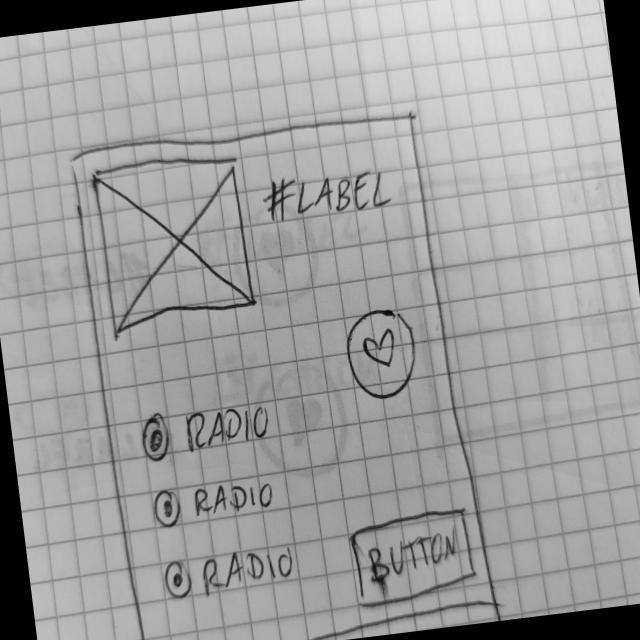button: (344, 506, 481, 613)
container: (66, 102, 504, 640)
icon-button: (340, 303, 425, 407)
image: (89, 146, 259, 337)
label: (259, 159, 397, 230)
radio: (137, 397, 276, 466), (162, 544, 300, 604), (150, 473, 281, 533)
